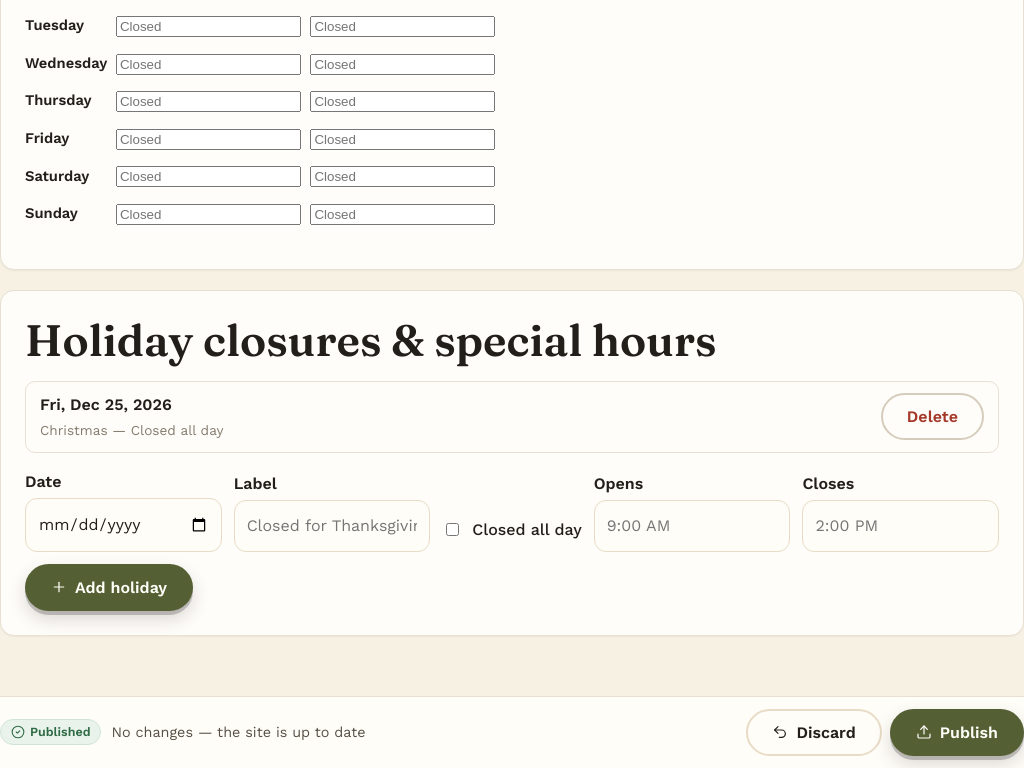
it: Hours & holidays › adding and removing holidays is staged; Publish writes once each
(page scrolled)
Type "2026-11-26" into the date field labelled "Date" at (123, 525), box [25,498,222,552]
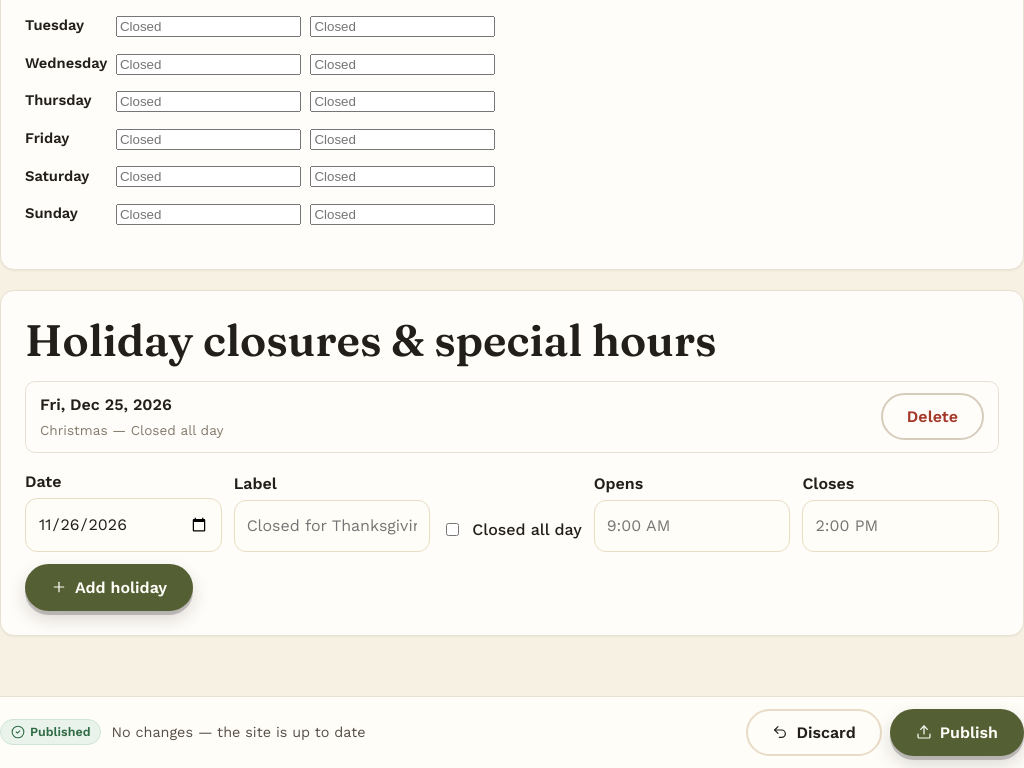
Type "Thanksgiving" into the field labelled "Label" at (332, 526), box [234,500,430,552]
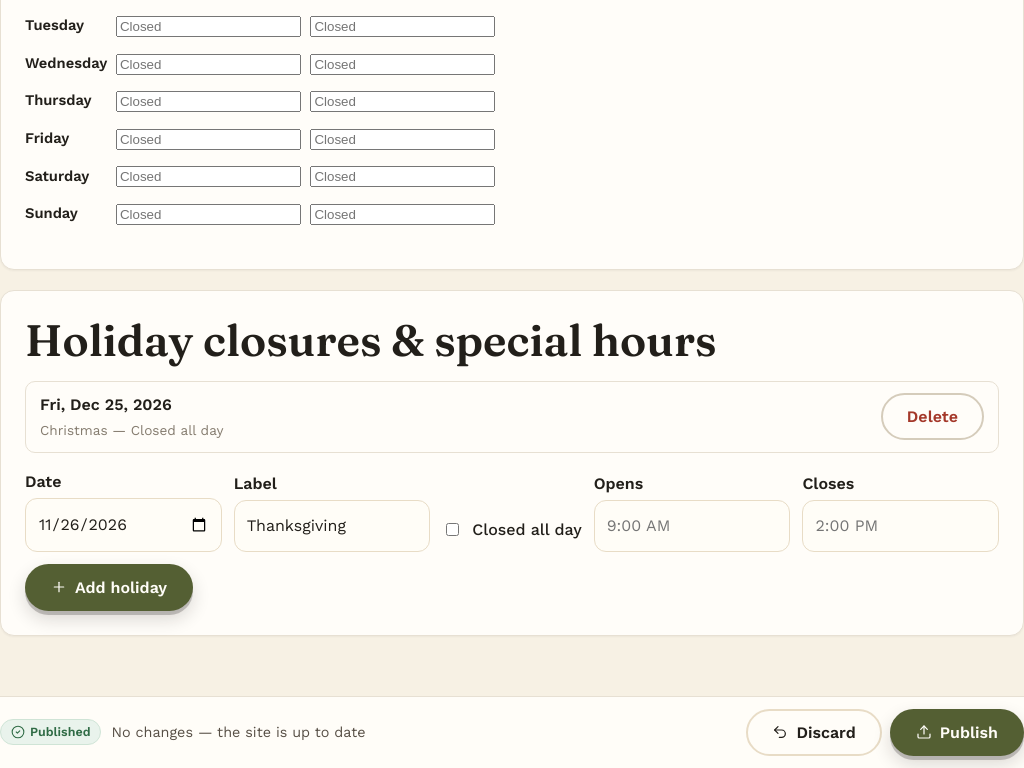
Click the button "Add holiday" at (109, 587), box [25,564,193,611]
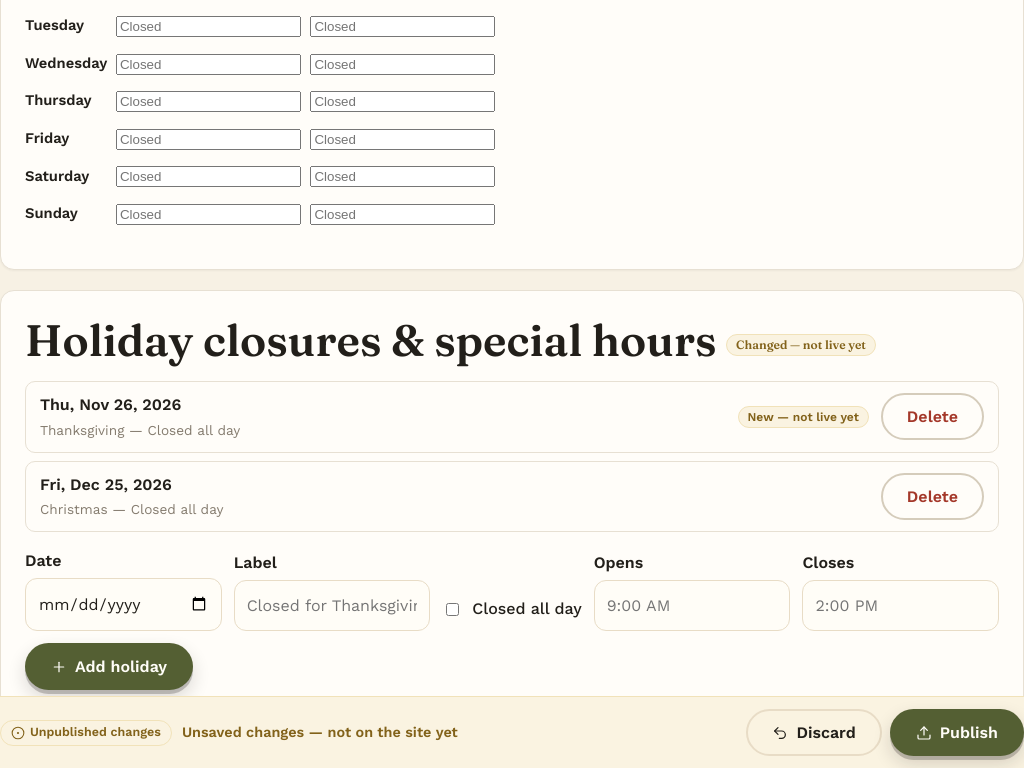
Click the button "Delete" in the row of "Fri, Dec 25, 2026" at (932, 496), box [881,473,984,520]
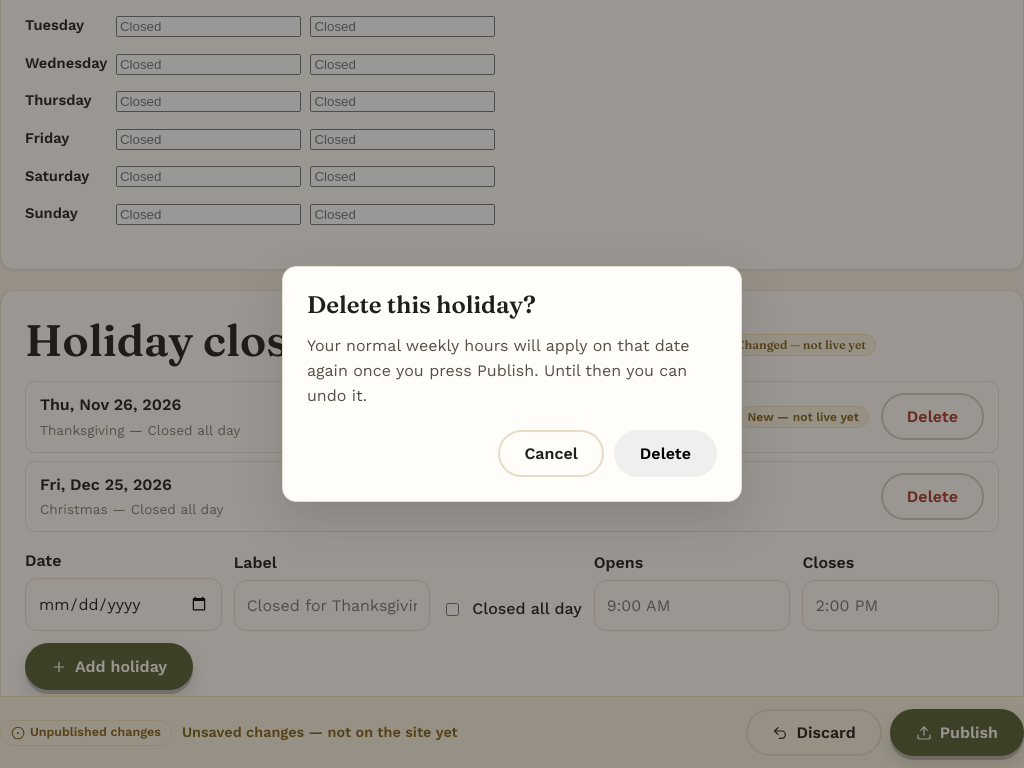
Click the button "Delete" at (665, 454), box [614,430,717,478]
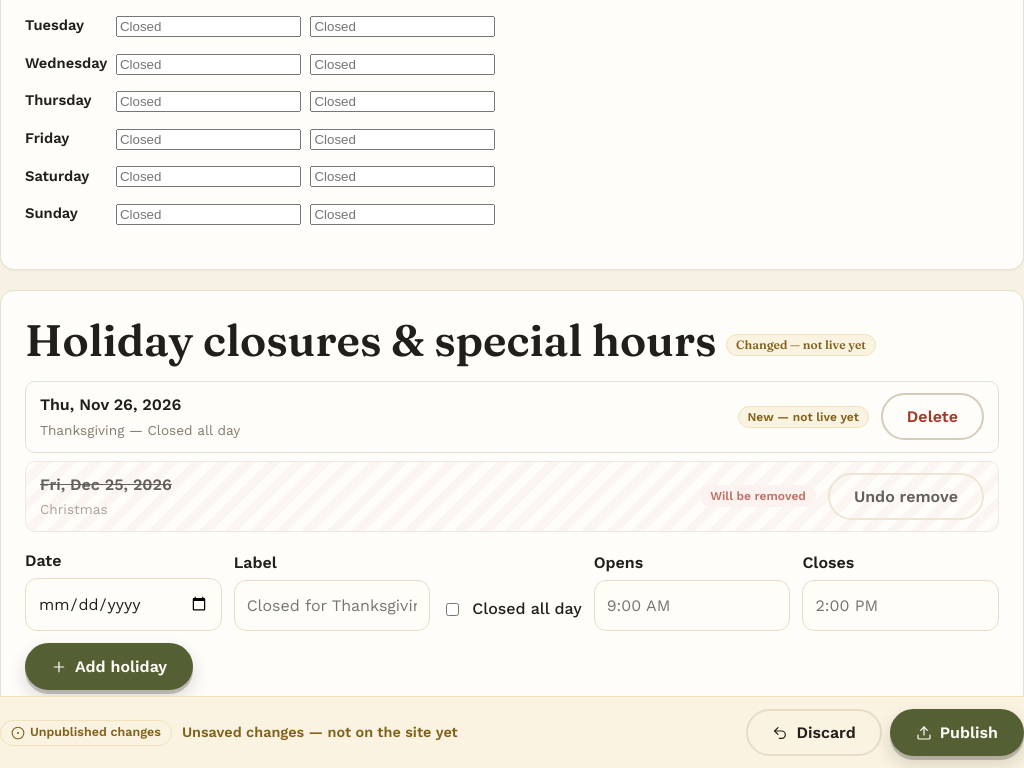
Check: the text "Will be removed" is shown, box [700,485,816,508]
Click the button "Publish" at (957, 732), box [890,709,1023,756]
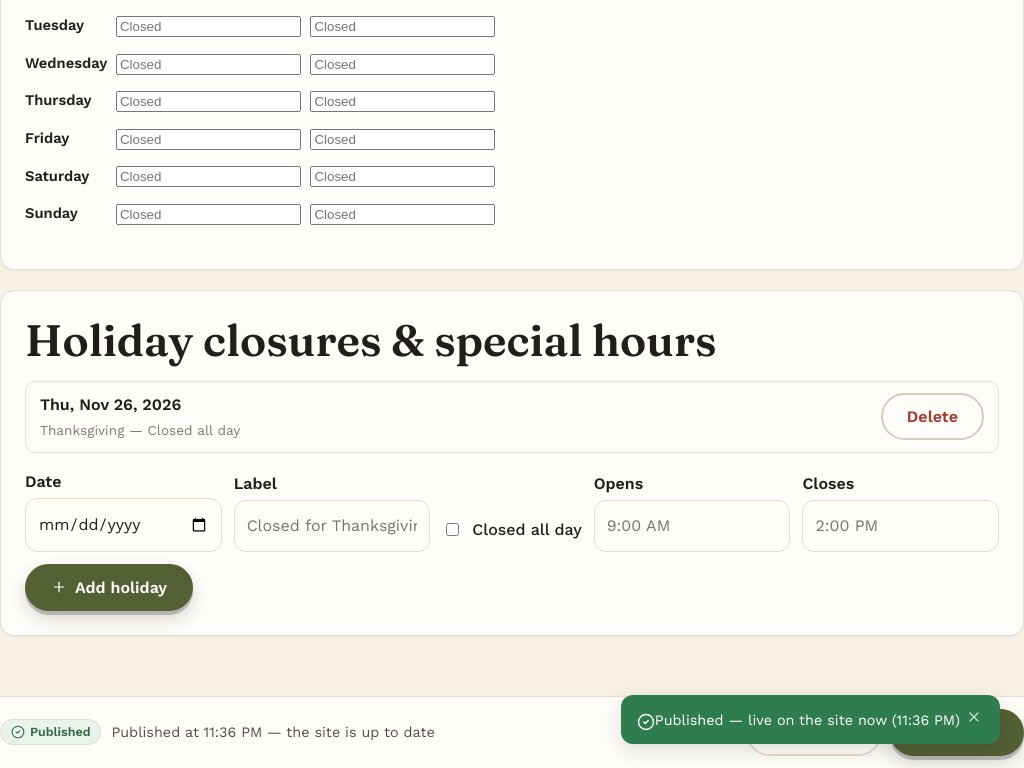
Check: the text "Published — live on the site now (11:36 PM)" is shown, box [655,712,960,728]
